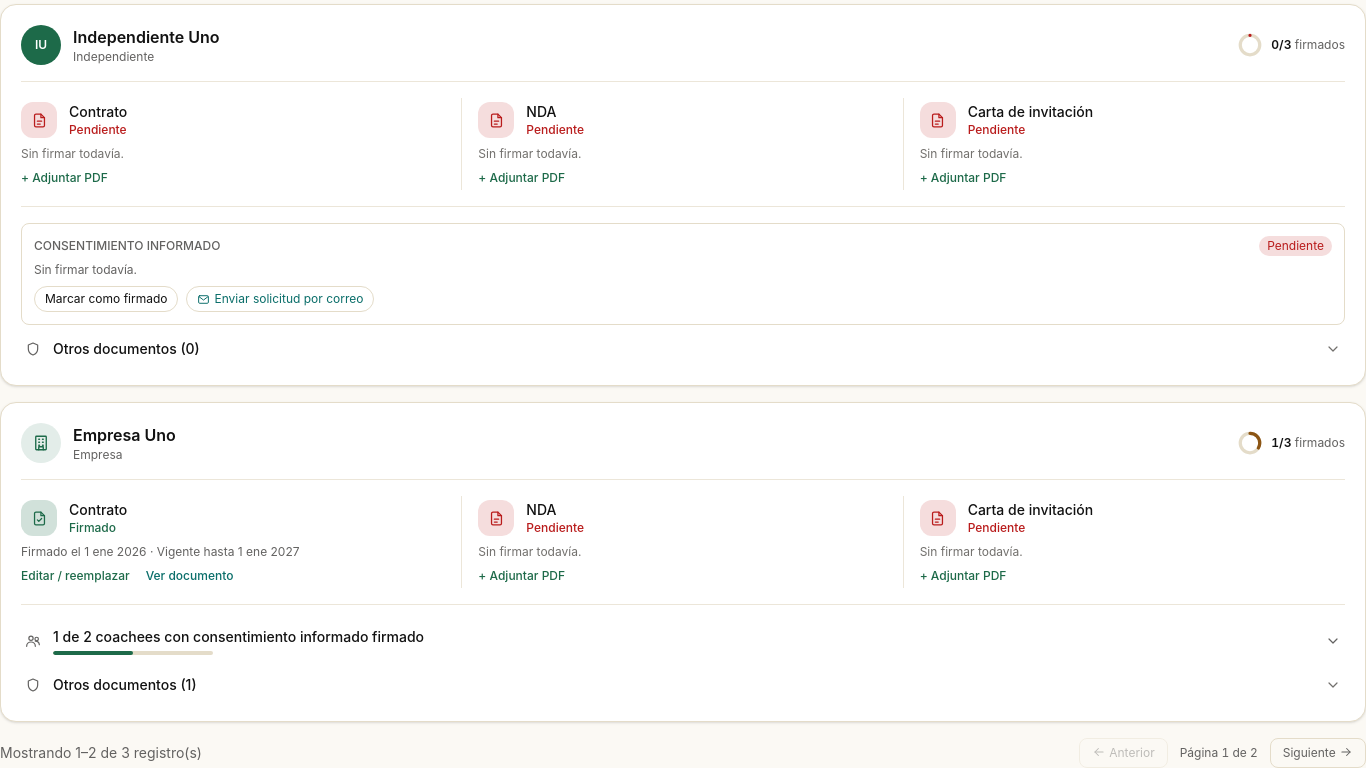
Scenario: ContratosTab › moves to page 2 to reveal the up-to-date item
The image size is (1366, 768).
(page scrolled)
Click the button "Siguiente": {"x": 1318, "y": 753} [1270,738,1365,767]
(page scrolled)
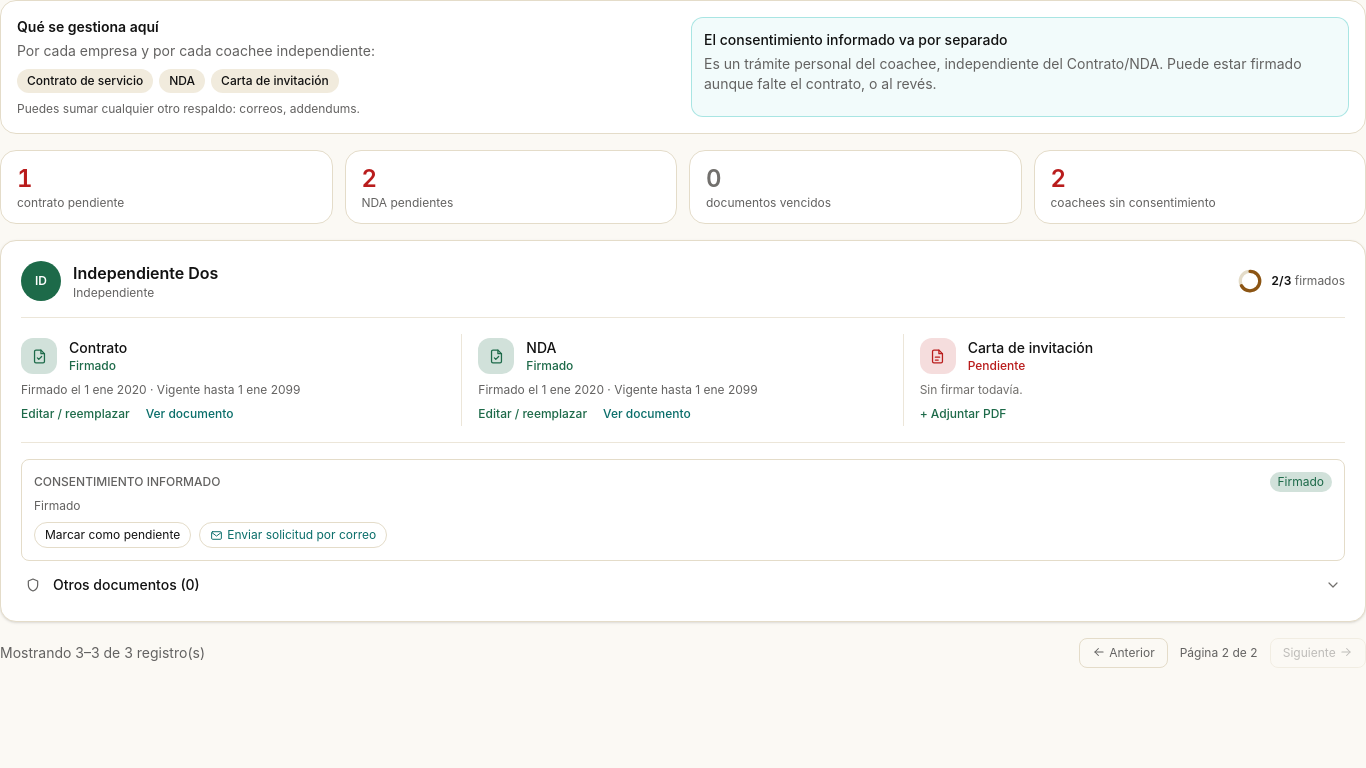
Expected: the text "Independiente Dos" is shown, [73,263,218,283]
Expected: the text "Empresa Uno" is gone
Expected: the text "Página 2 de 2" is shown, [1180,645,1258,661]
